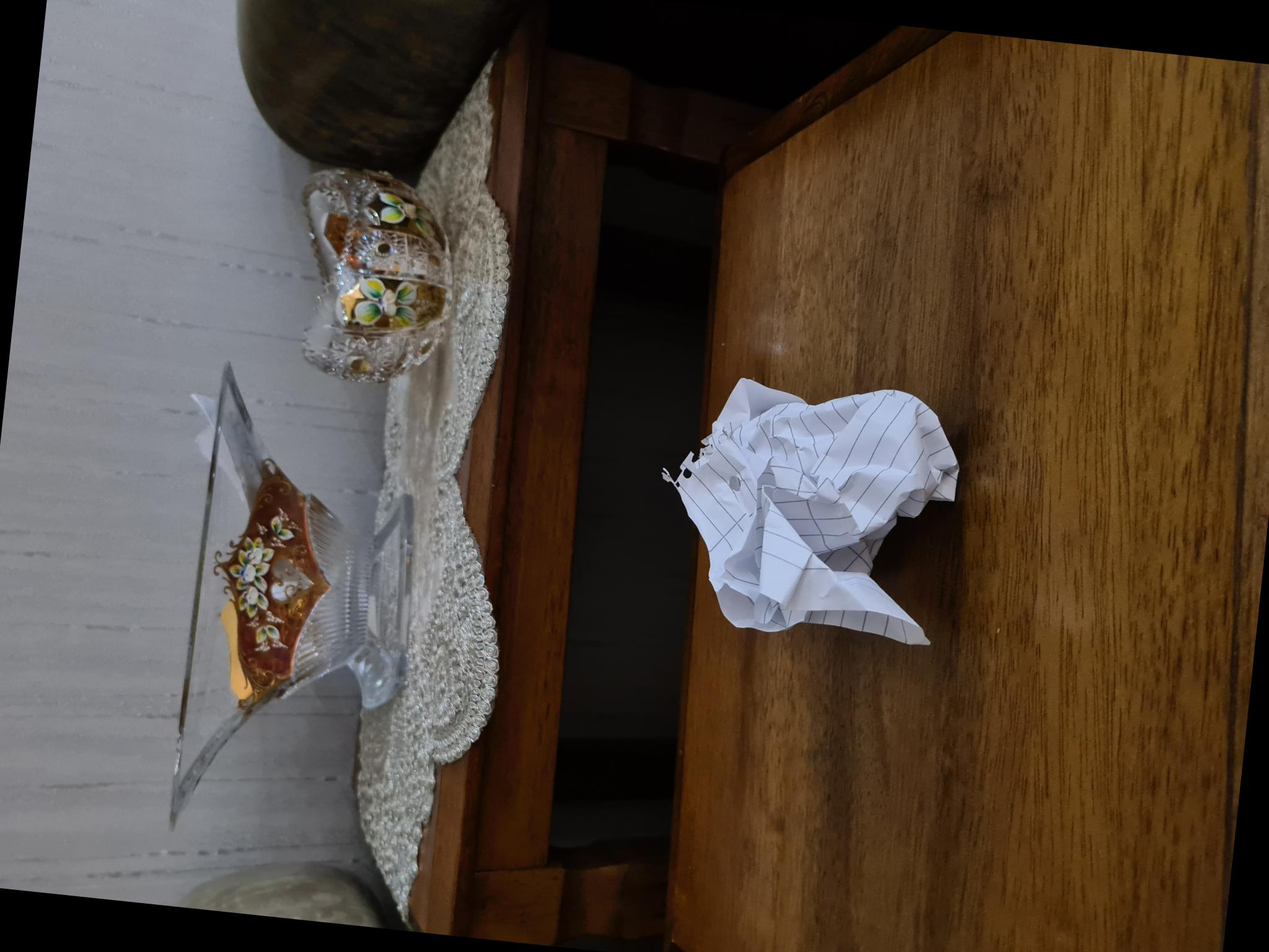Kertas: (284, 659, 564, 944)
